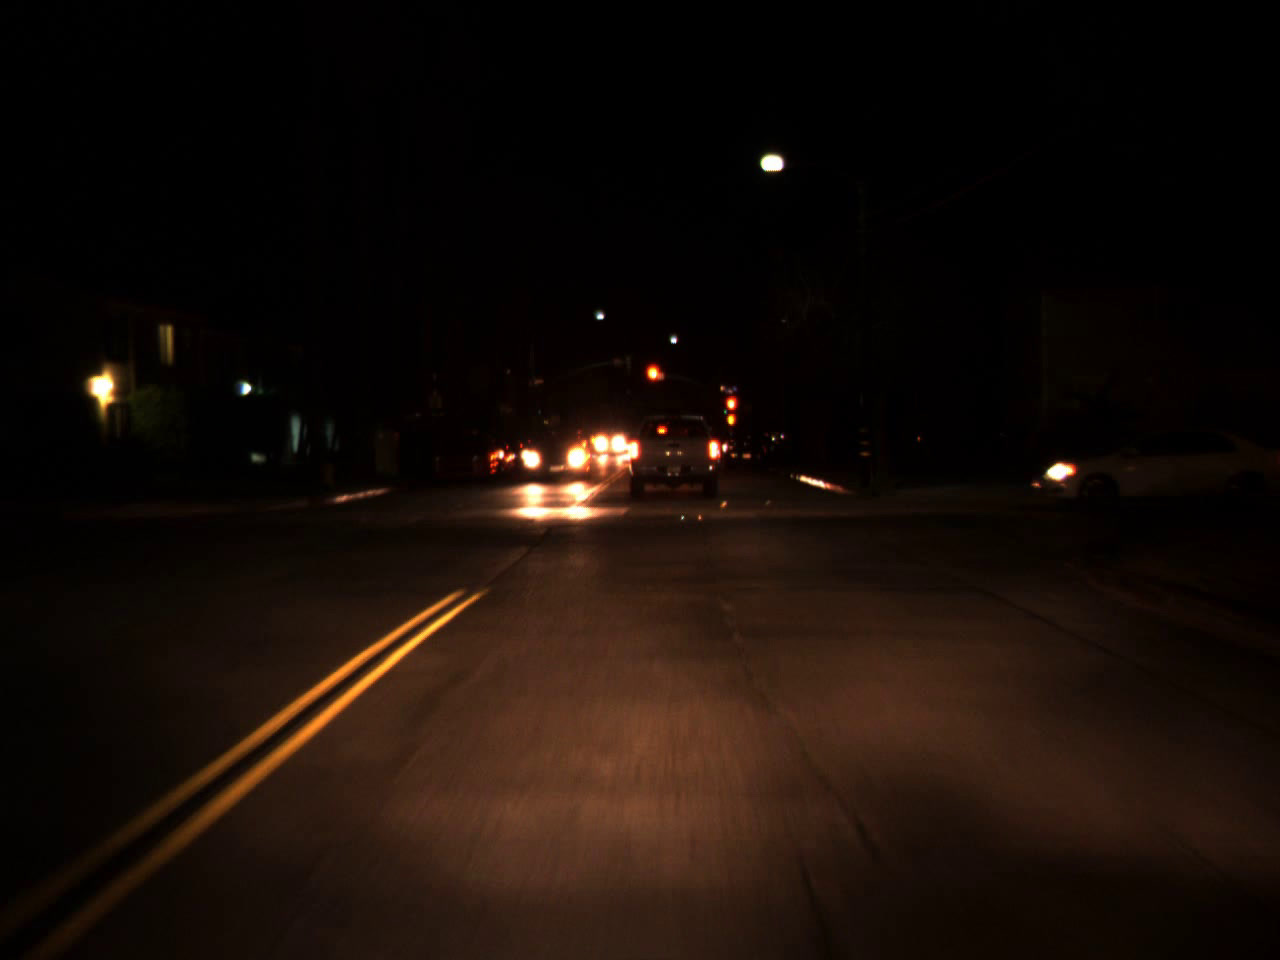stop: (645, 363, 661, 395), (724, 395, 737, 427)
